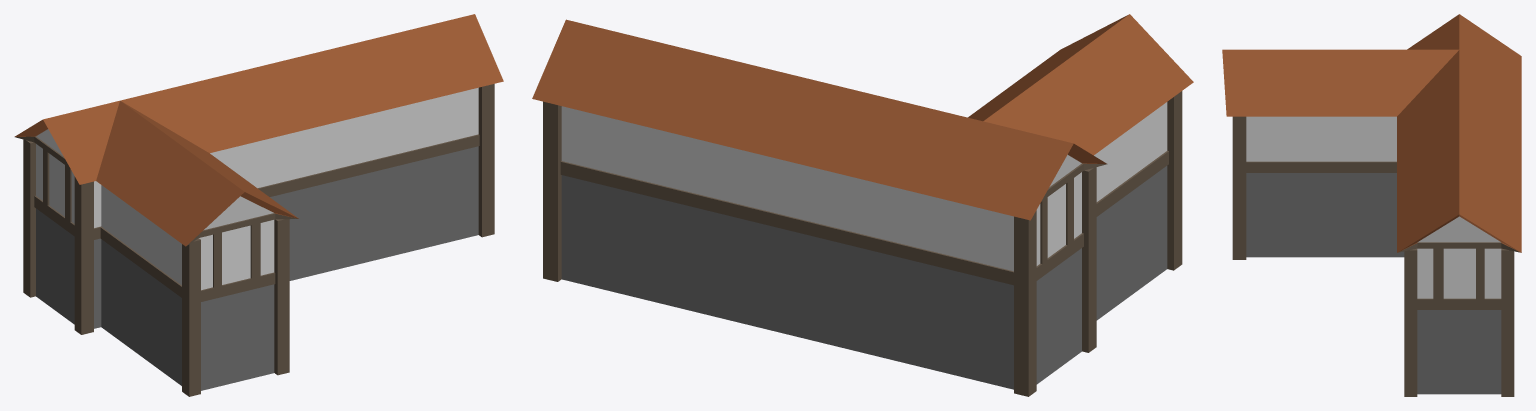
The model's file is Building base6.fbx.
3 views of the same model, side by side, from view 1: azimuth 30°, elevation 25°; view 2: azimuth 150°, elevation 25°; view 3: azimuth 270°, elevation 25° (orthographic). The views are drawn at different scales.
Parts seen in each view (by area): view 1: Cube; view 2: Cube; view 3: Cube.
Part boxes in pixels (x1,y1,x2,y2): Cube: (14, 14, 503, 396); Cube: (532, 14, 1193, 396); Cube: (1222, 14, 1521, 396).
Size of the model in its own units: 862 by 375 by 544.
